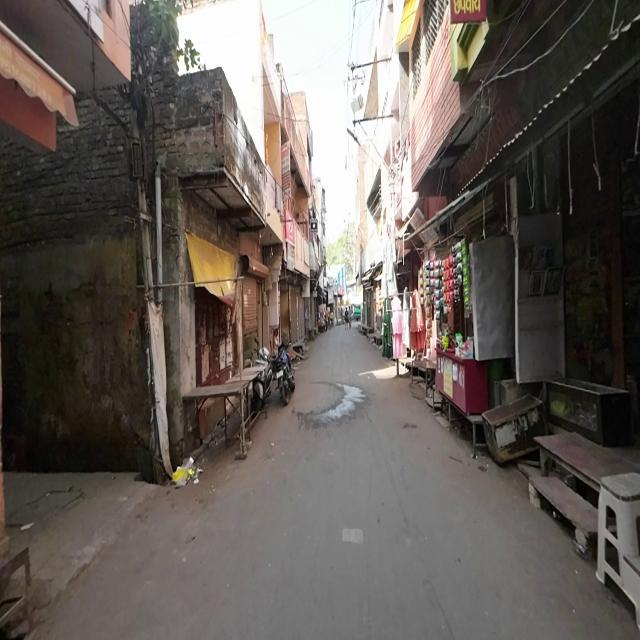Garbage: (170, 457, 204, 488)
